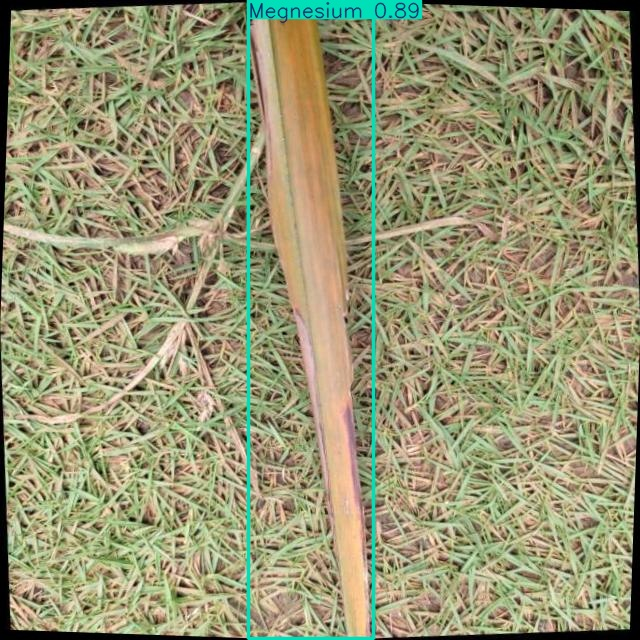Megnesium: (249, 0, 374, 638)
